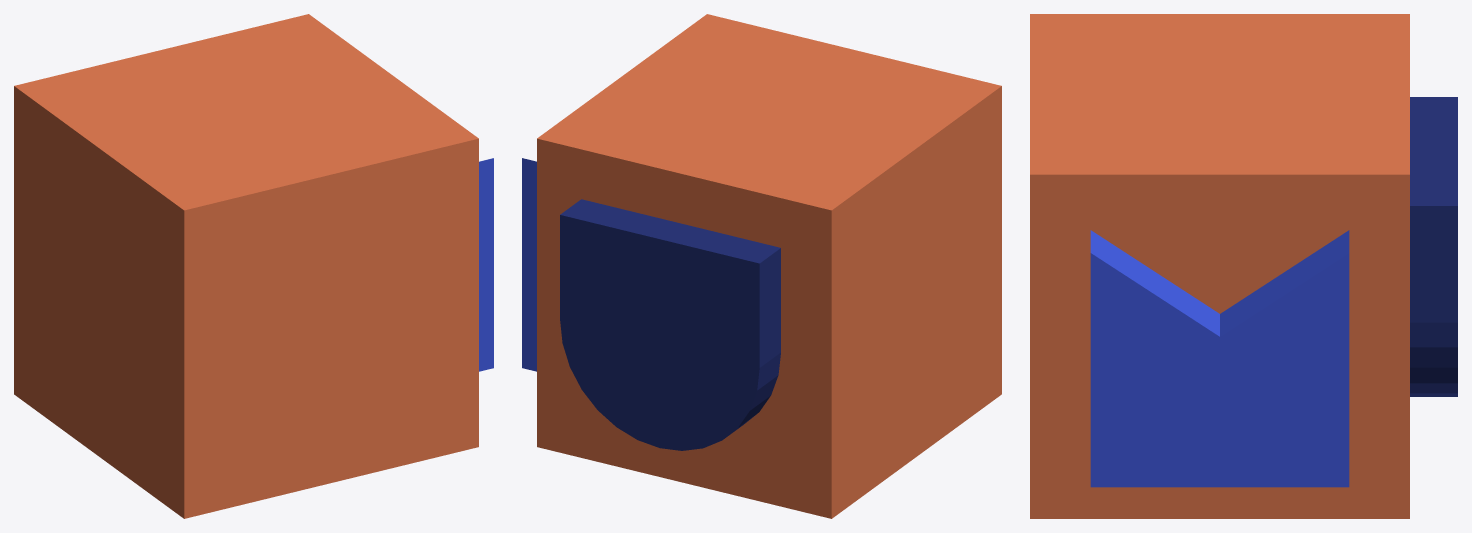
The picture shows the model from 3 angles, left to right: view 1: azimuth 30°, elevation 25°; view 2: azimuth 150°, elevation 25°; view 3: azimuth 270°, elevation 25°; orthographic projection. The views are drawn at different scales.
Visible parts, largest first — view 1: Cube, M; view 2: Cube, Cube.001, M; view 3: Cube, M, Cube.001.
Part boxes in pixels (left/top/right/bottom): Cube: left=14, top=14, right=478, bottom=518; M: left=479, top=158, right=493, bottom=371; Cube: left=537, top=14, right=1001, bottom=518; Cube.001: left=560, top=199, right=780, bottom=450; M: left=522, top=158, right=536, bottom=371; Cube: left=1030, top=14, right=1409, bottom=518; M: left=1090, top=230, right=1349, bottom=487; Cube.001: left=1410, top=97, right=1457, bottom=396.
Bounding box in the file's own units: 13.77 × 12.05 × 13.57.
